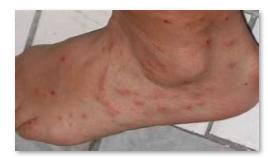Lice: (114, 86, 172, 118), (175, 92, 213, 119), (97, 33, 121, 61), (36, 82, 60, 102), (198, 35, 218, 56), (223, 57, 241, 79), (128, 90, 146, 110), (228, 30, 242, 52), (220, 10, 236, 29), (55, 49, 71, 67), (162, 13, 176, 30), (24, 115, 40, 128), (184, 102, 196, 118), (76, 112, 88, 126), (55, 114, 64, 126)
